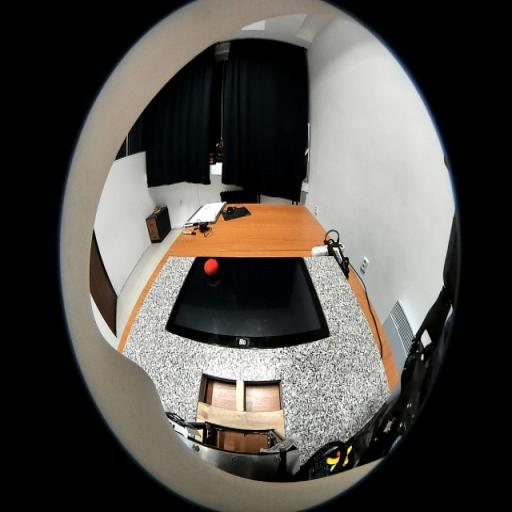Tomato: (203, 258, 219, 276)
